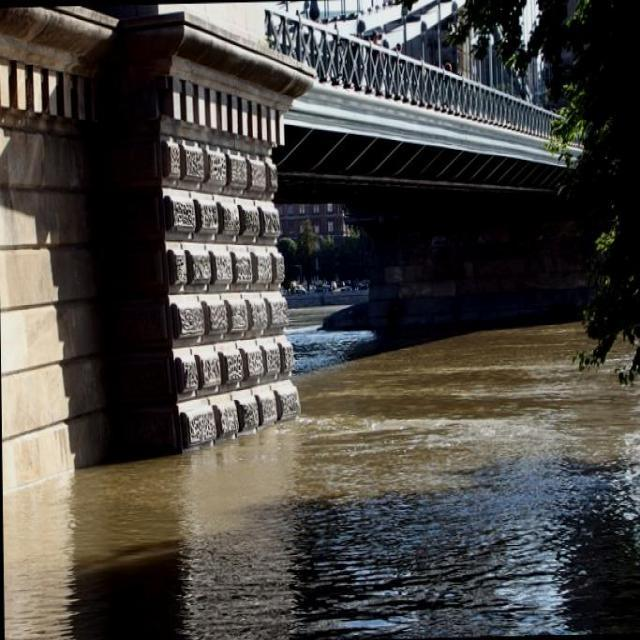flood: (0, 318, 639, 639)
